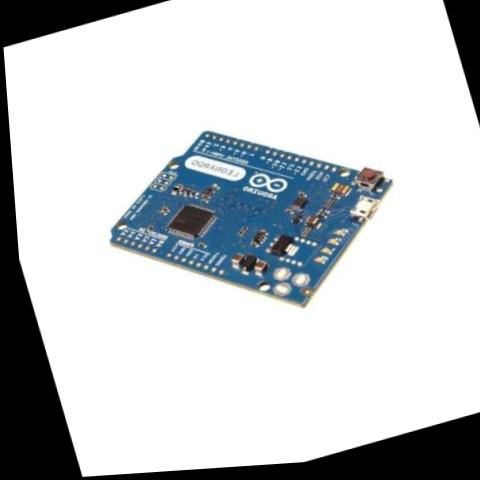Arduino-Leonardo: (74, 82, 422, 362)
